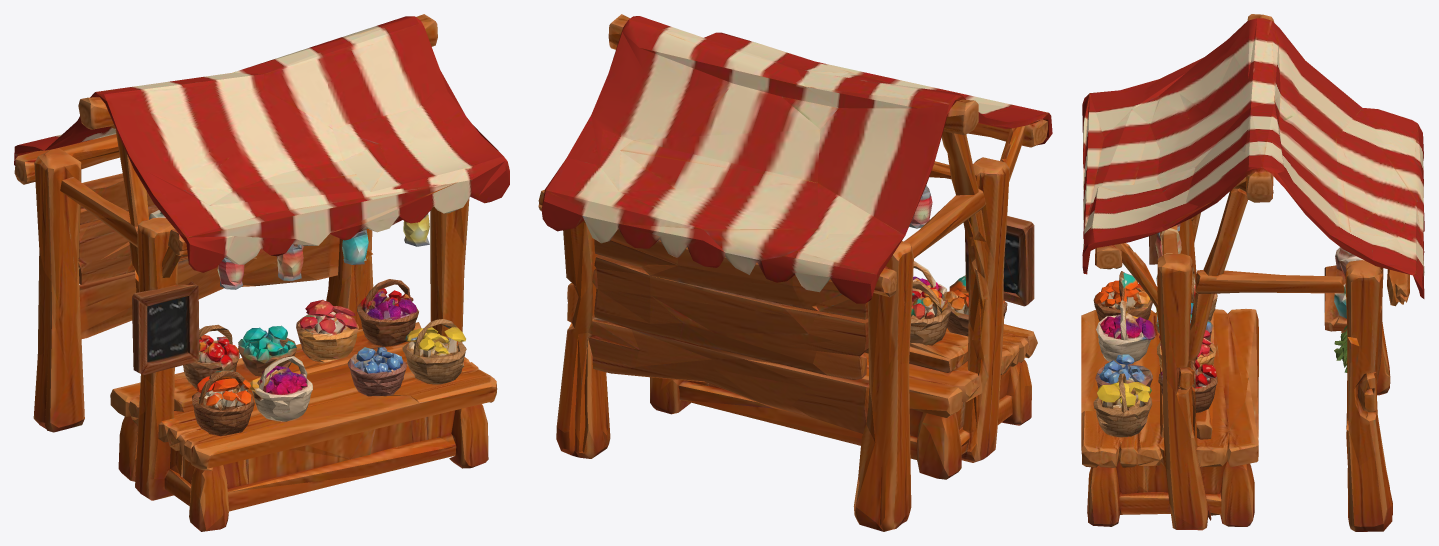
File: ch1_mushroom_stall.fbx
3 renders of one model, left to right at view 1: azimuth 30°, elevation 25°; view 2: azimuth 150°, elevation 25°; view 3: azimuth 270°, elevation 25°, orthographic. The views are drawn at different scales.
Parts seen in each view (by area): view 1: ch1_mushroom_stall; view 2: ch1_mushroom_stall; view 3: ch1_mushroom_stall.
Part boxes in pixels (box(x1,y1,x2,y2)): ch1_mushroom_stall: box(14, 14, 509, 531); ch1_mushroom_stall: box(538, 14, 1052, 531); ch1_mushroom_stall: box(1081, 14, 1424, 531).
Size of the model in its own units: 2.71 by 2.8 by 2.37.
Materials: 1 (1 with a texture image).
